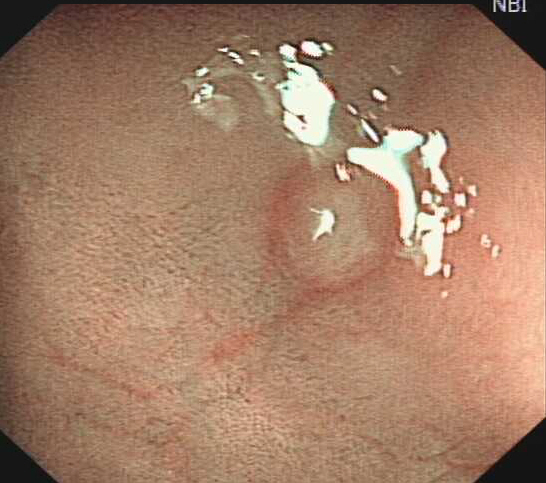others: (265, 159, 403, 296)
